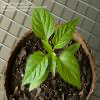Bell_pepper leaf: (56, 51, 82, 90), (20, 51, 48, 86), (31, 4, 56, 40), (51, 18, 79, 50), (48, 52, 57, 78), (41, 39, 52, 53)
